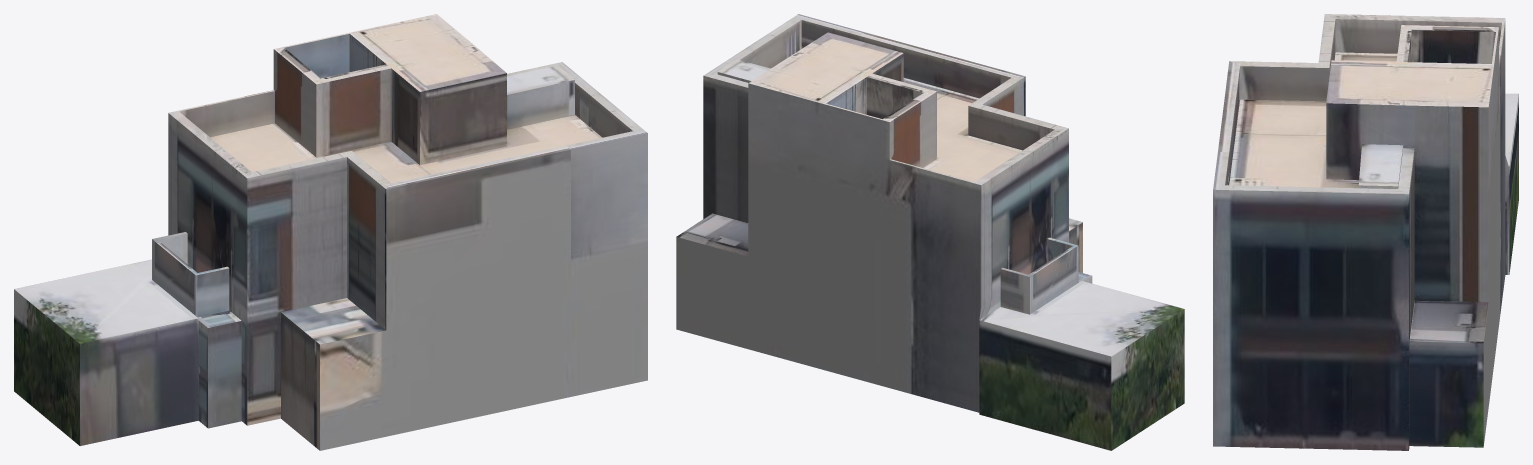
3 renders of one model, left to right at view 1: azimuth 30°, elevation 25°; view 2: azimuth 150°, elevation 25°; view 3: azimuth 270°, elevation 25°, orthographic. The views are drawn at different scales.
Parts seen in each view (by area): view 1: B283734034901062A0; view 2: B283734034901062A0; view 3: B283734034901062A0.
Boxes of the visible parts, box(x1,y1,x2,y2) form: B283734034901062A0: box(14, 14, 647, 450); B283734034901062A0: box(676, 14, 1184, 450); B283734034901062A0: box(1213, 14, 1518, 450).
Bounding box in the file's own units: 19.31 × 10.6 × 9.81.
1 material, 1 textured.
